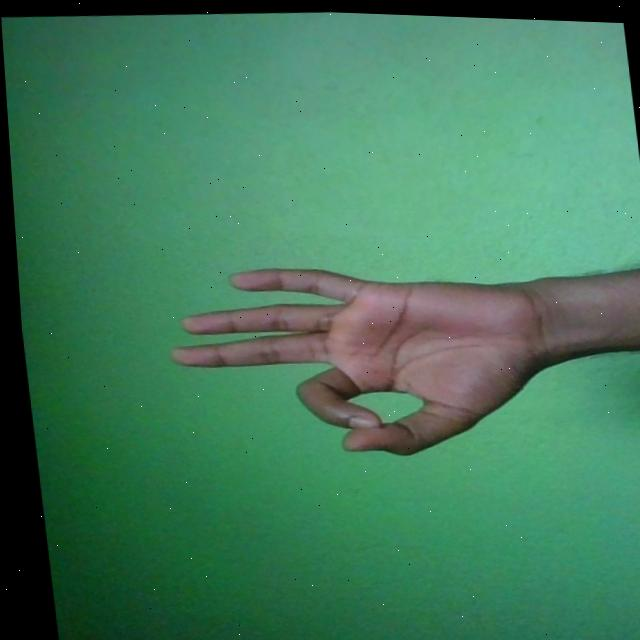Ok: (153, 248, 561, 468)
